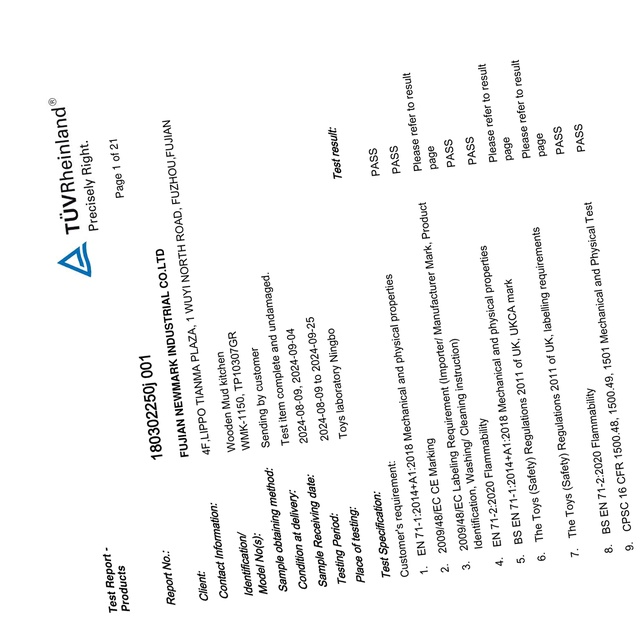tuv_rheinland: (47, 93, 98, 278)
